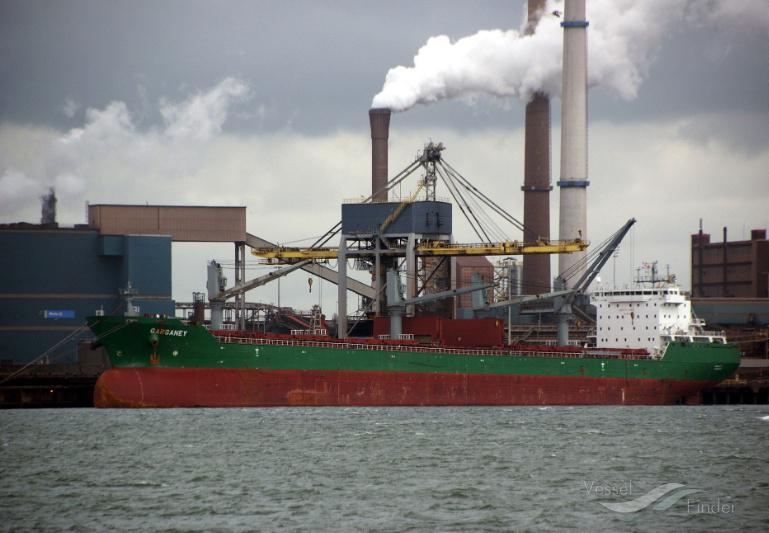OCR: (140, 325, 188, 338)
